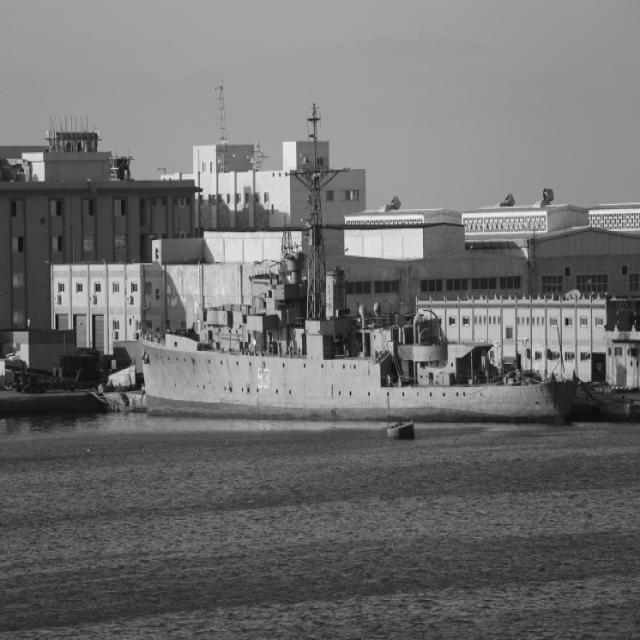Fragata: (137, 109, 584, 431)
